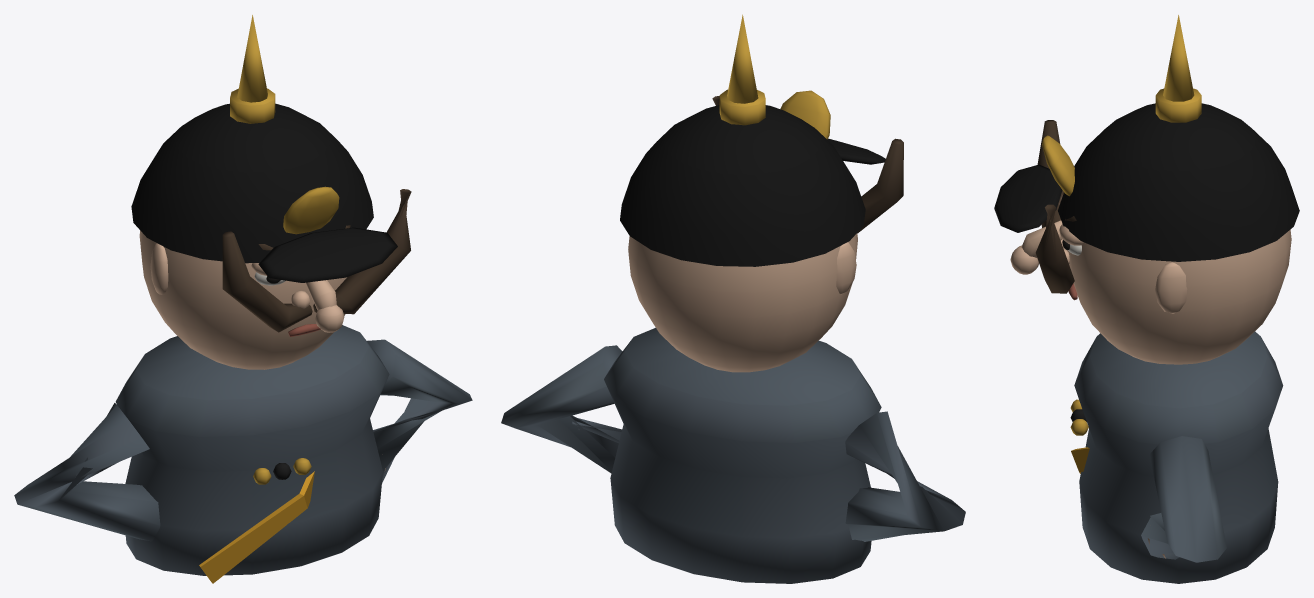
The picture shows the model from 3 angles, left to right: view 1: azimuth 30°, elevation 25°; view 2: azimuth 150°, elevation 25°; view 3: azimuth 270°, elevation 25°; orthographic projection. The views are drawn at different scales.
Visible parts, largest first — view 1: fig_body, fig_head; view 2: fig_body, fig_head; view 3: fig_head, fig_body.
Boxes of the visible parts, left/top/right/bottom form: fig_body: left=14, top=325, right=472, bottom=583; fig_head: left=131, top=15, right=411, bottom=369; fig_body: left=501, top=327, right=965, bottom=583; fig_head: left=620, top=14, right=903, bottom=372; fig_head: left=994, top=15, right=1299, bottom=364; fig_body: left=1070, top=331, right=1283, bottom=583.
Bounding box in the file's own units: 1.13 × 1.23 × 0.6635.
